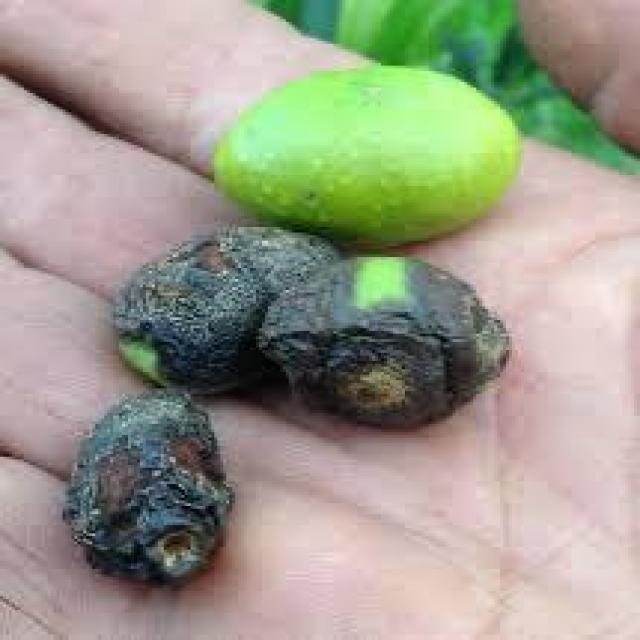Anthracnose: (259, 257, 506, 429), (113, 225, 336, 392), (62, 386, 232, 586)
